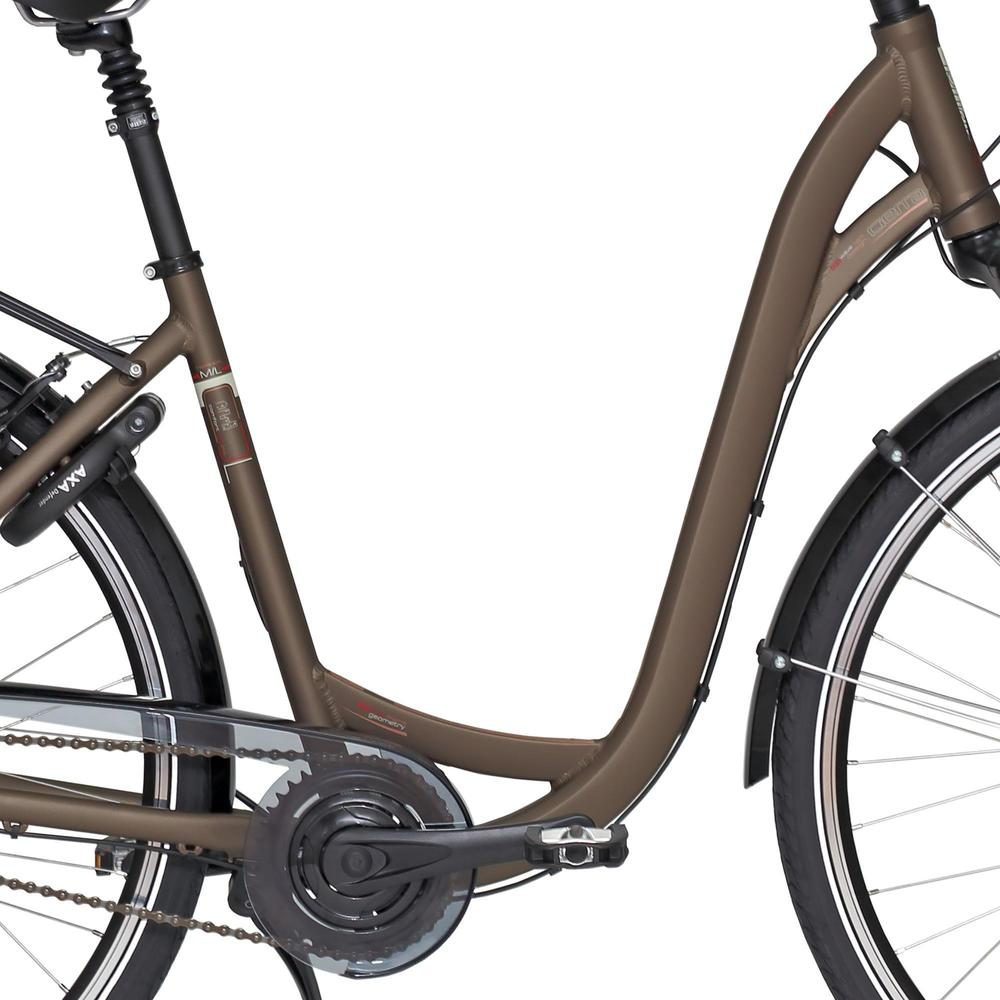UrbanBike: (0, 0, 994, 989)
